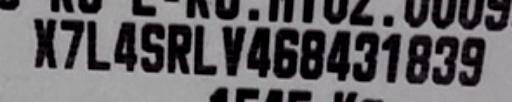letter: (458, 34, 490, 88), (30, 15, 60, 71), (378, 28, 406, 87), (136, 20, 166, 74), (192, 22, 222, 76), (110, 20, 140, 72), (352, 29, 382, 81), (216, 24, 246, 75), (298, 26, 328, 77), (84, 20, 112, 72), (270, 25, 298, 77), (326, 29, 354, 81), (404, 32, 432, 84), (430, 32, 458, 84), (59, 15, 85, 69), (164, 20, 190, 74), (246, 24, 272, 78)
